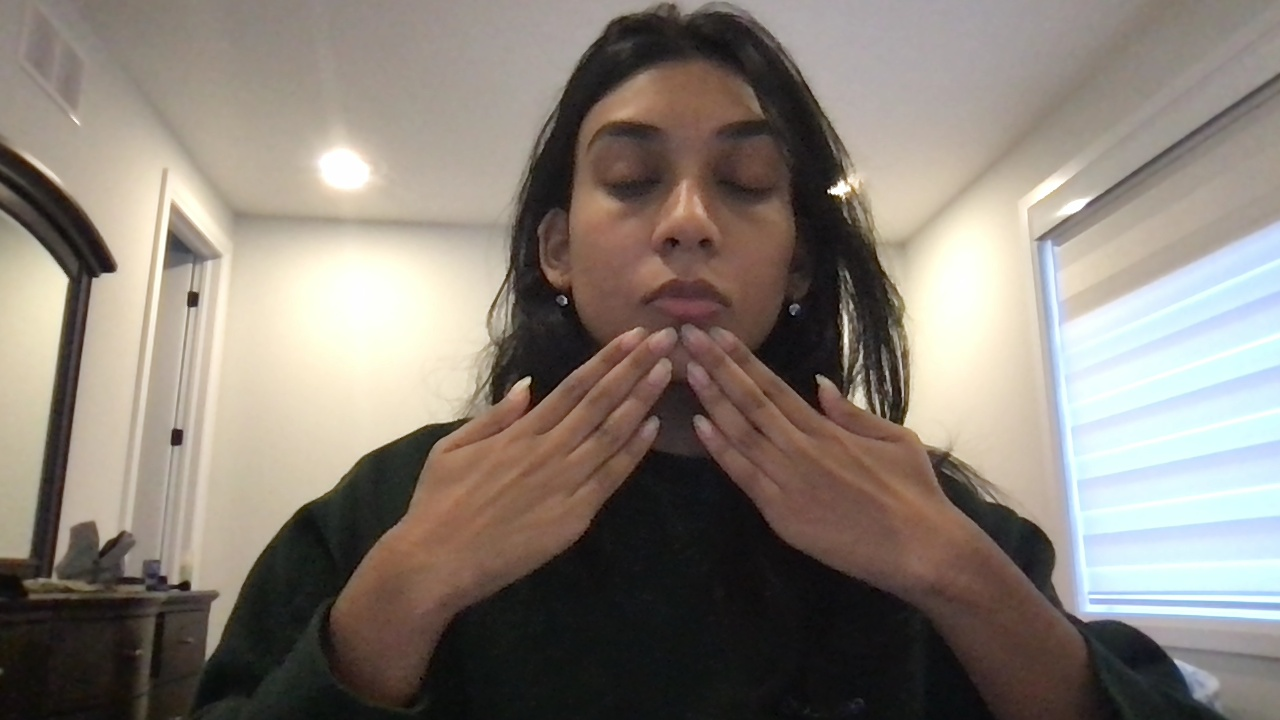Thank You: (408, 322, 967, 597)
